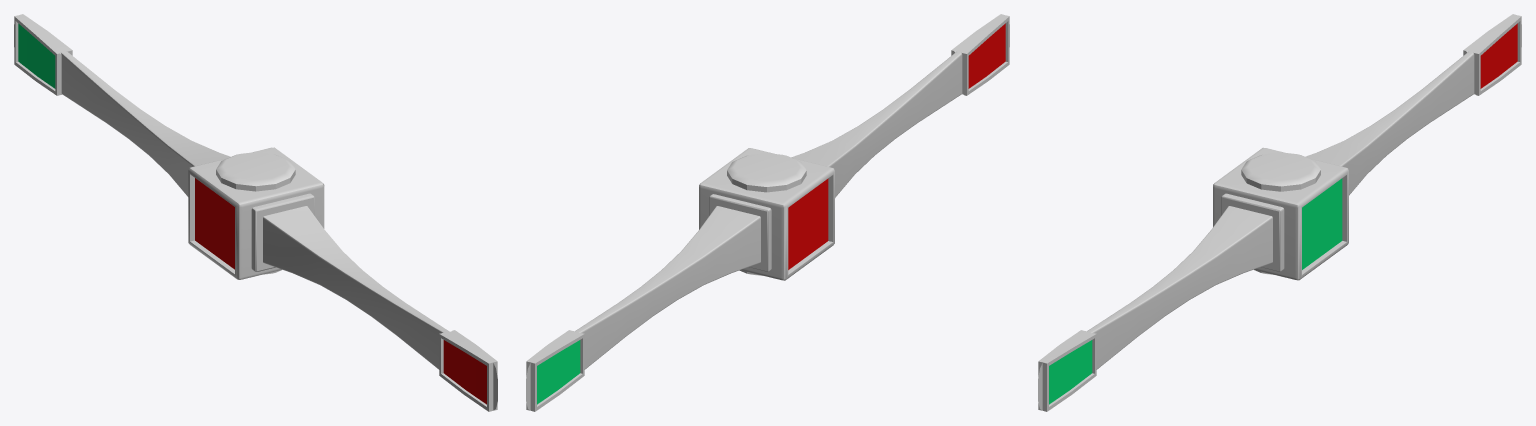
File: TV_w_Wings.fbx
3 renders of one model, left to right at view 1: azimuth 30°, elevation 25°; view 2: azimuth 150°, elevation 25°; view 3: azimuth 330°, elevation 25°, orthographic.
Parts seen in each view (by area): view 1: polySurface2; view 2: polySurface2; view 3: polySurface2.
Boxes of the visible parts, bbox=[...] form: polySurface2: bbox=[14, 14, 497, 411]; polySurface2: bbox=[526, 14, 1009, 411]; polySurface2: bbox=[1038, 14, 1521, 411].
Size of the model in its own units: 1.94 by 2.03 by 18.64.
